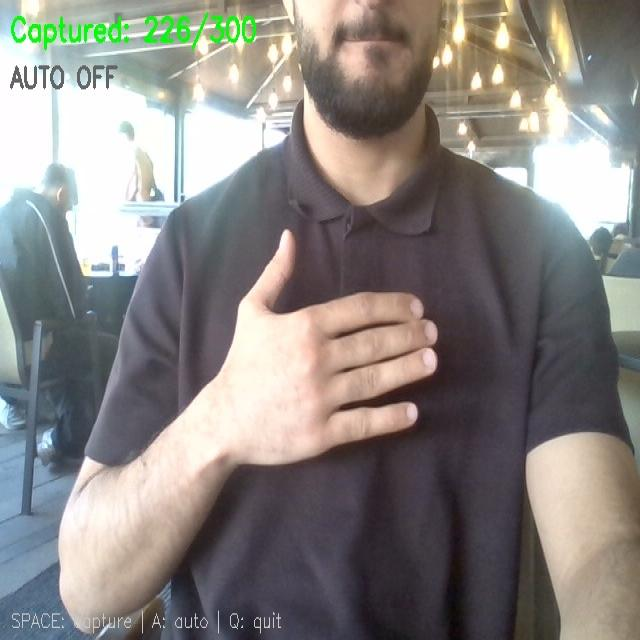Hand: (203, 231, 436, 463)
